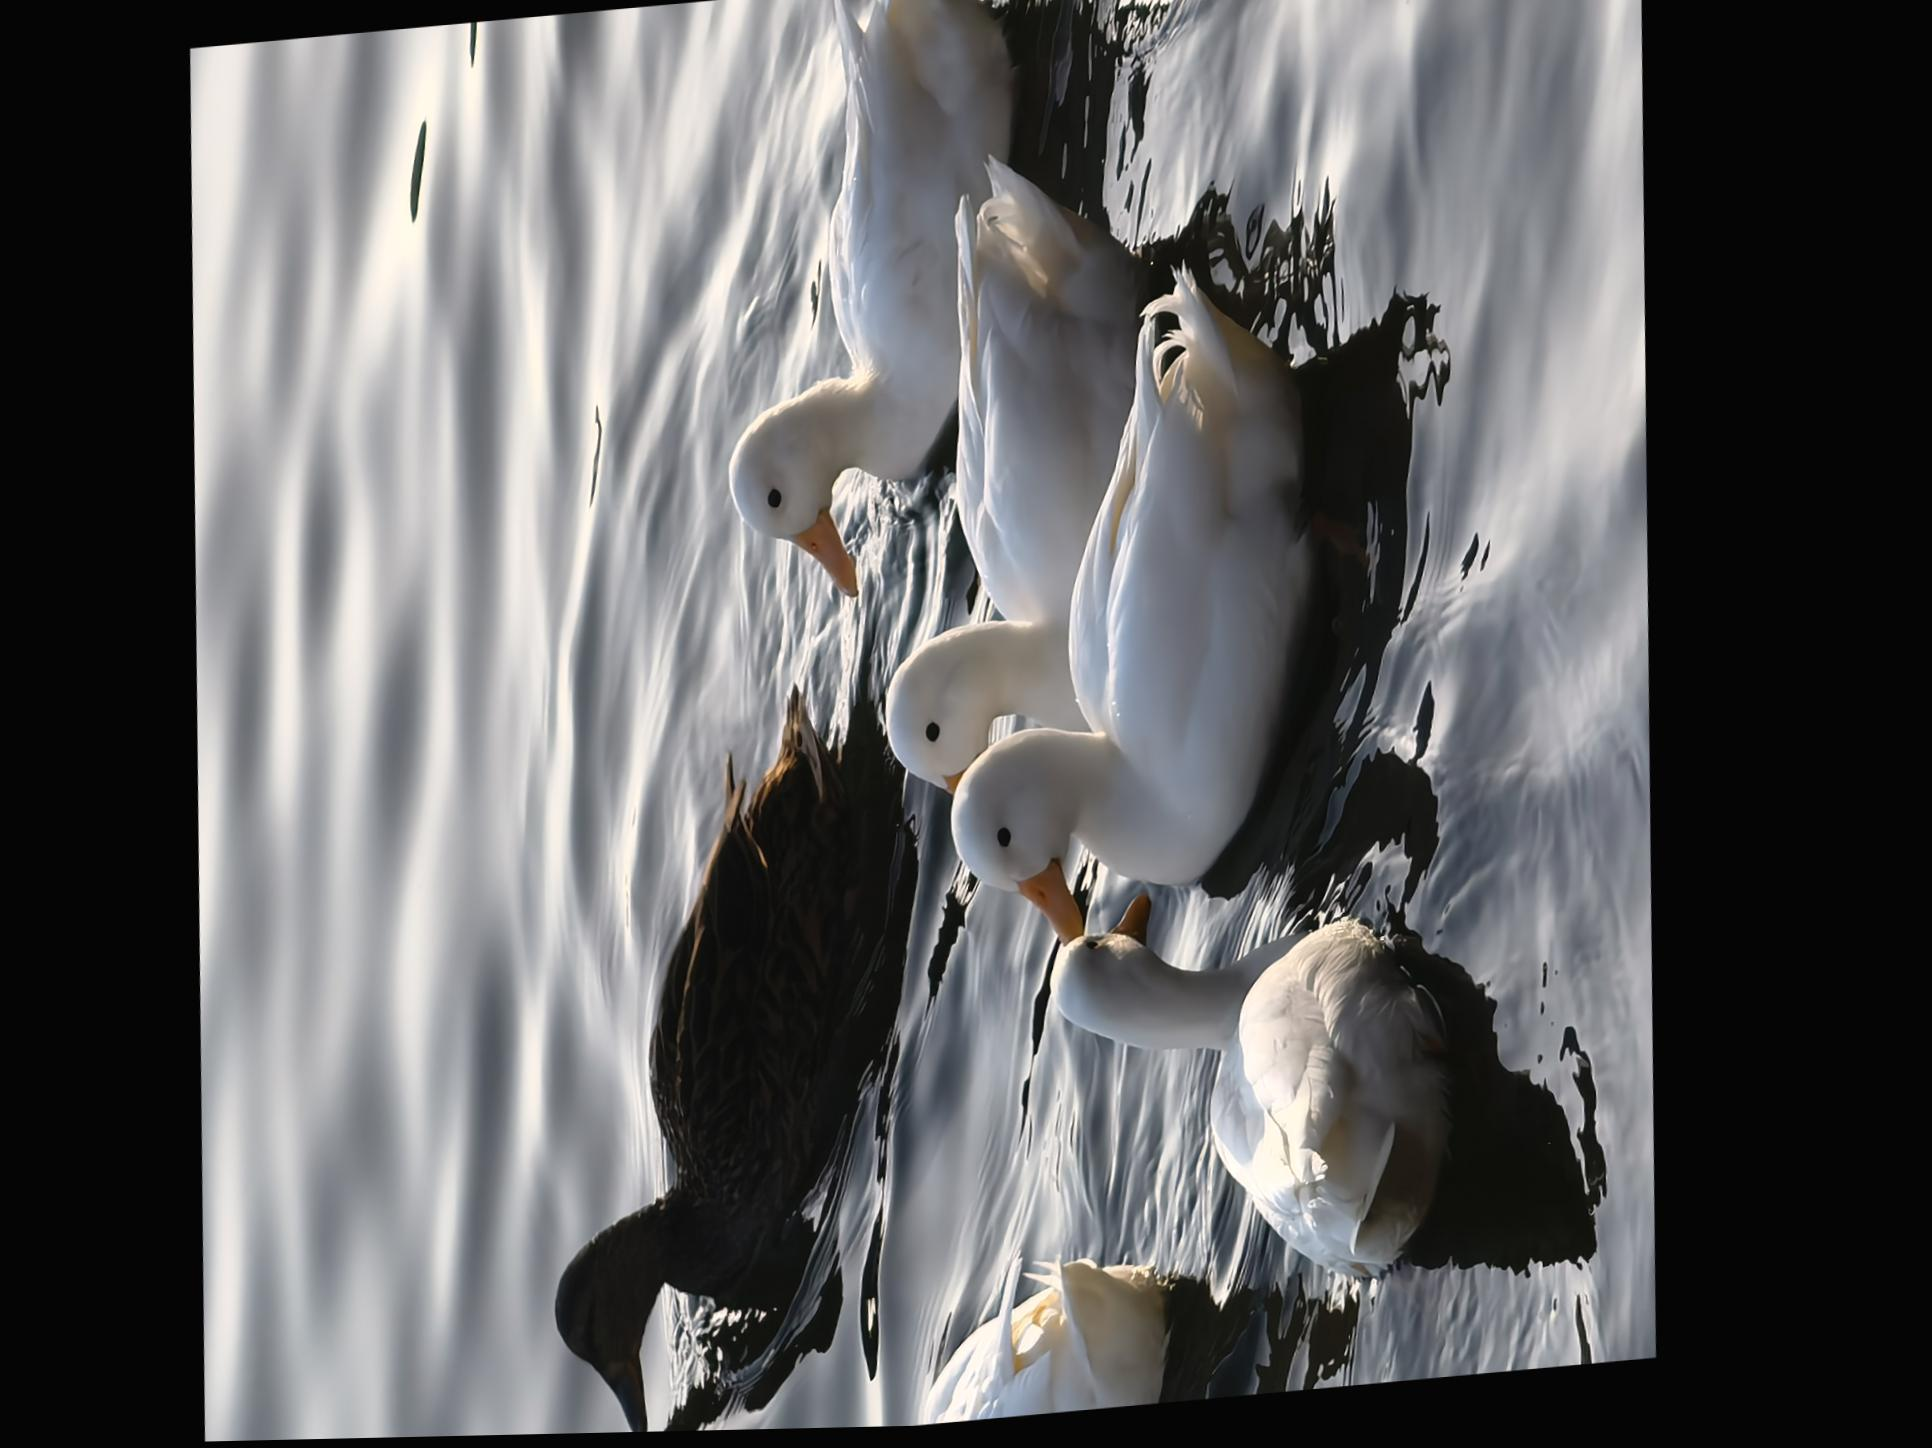duck: (916, 264, 1379, 961), (517, 679, 934, 1438), (689, 0, 1054, 616), (857, 159, 1190, 821), (1009, 879, 1469, 1317), (744, 1244, 1190, 1434)
